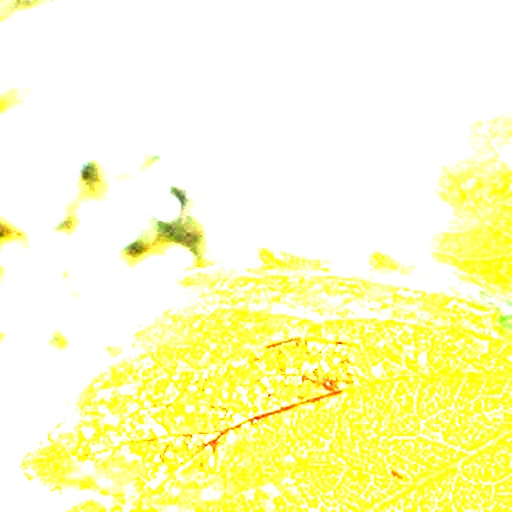Angular Leafspot: (16, 242, 511, 511)
